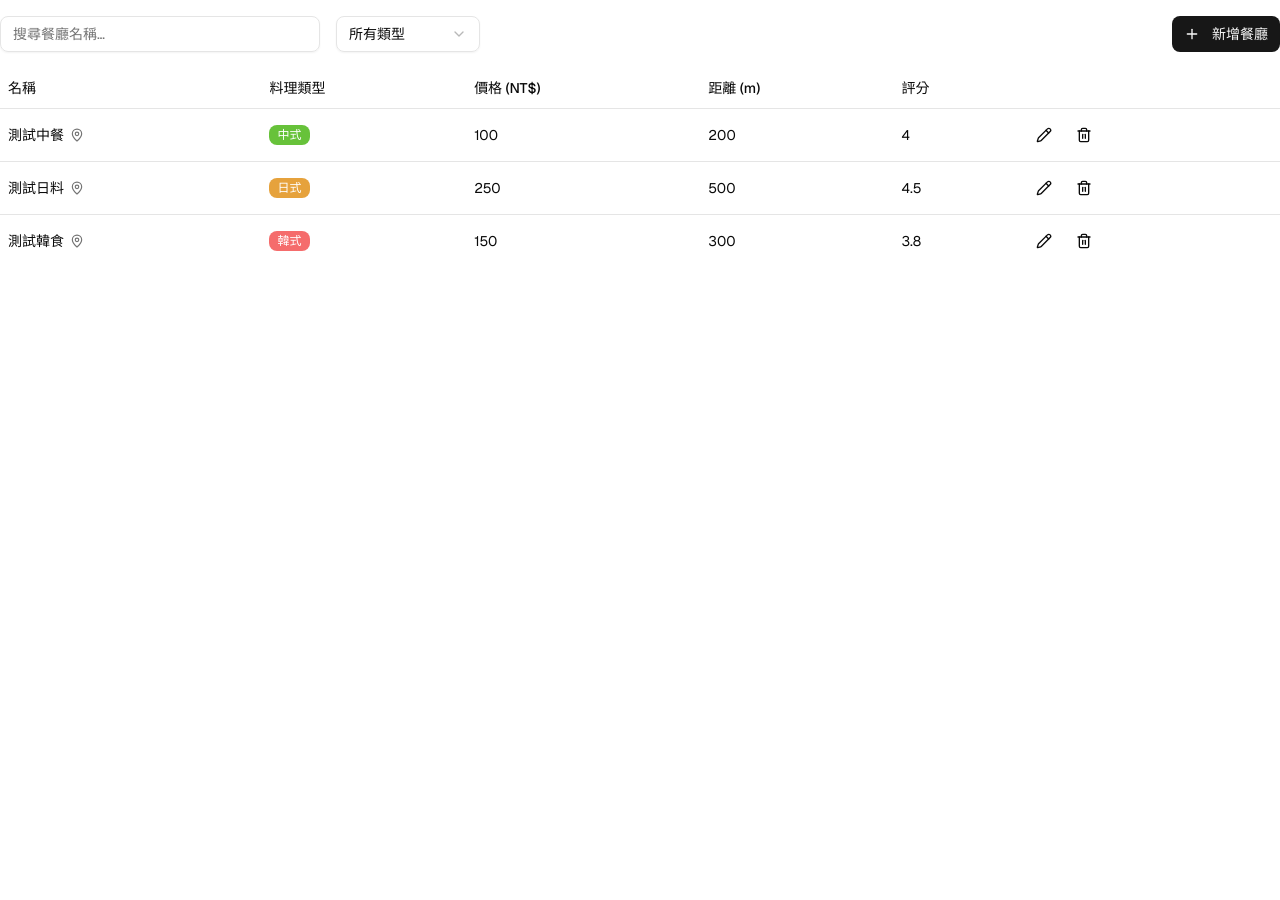
Test case: RestaurantListPanel (admin CRUD) › add button opens dialog with form fields
Step 1. Click the button "新增餐廳" → [1226, 34], box [1172,16,1279,52]
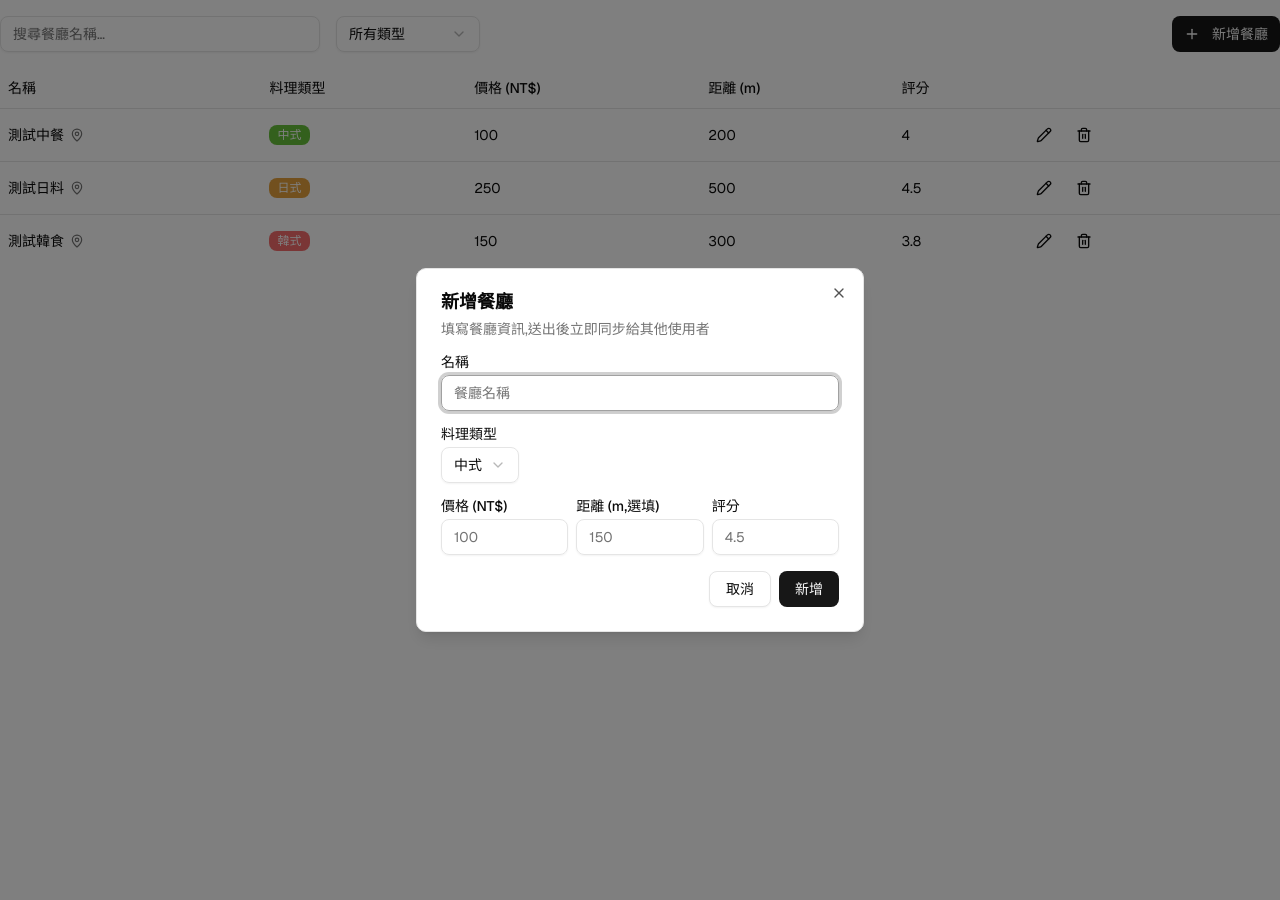
Check: the field labelled "名稱" is shown, box [441,375,839,411]
Check: the number field labelled "價格 (NT$)" is shown, box [441,519,568,555]
Check: the number field labelled "距離 (m,選填)" is shown, box [576,519,704,555]
